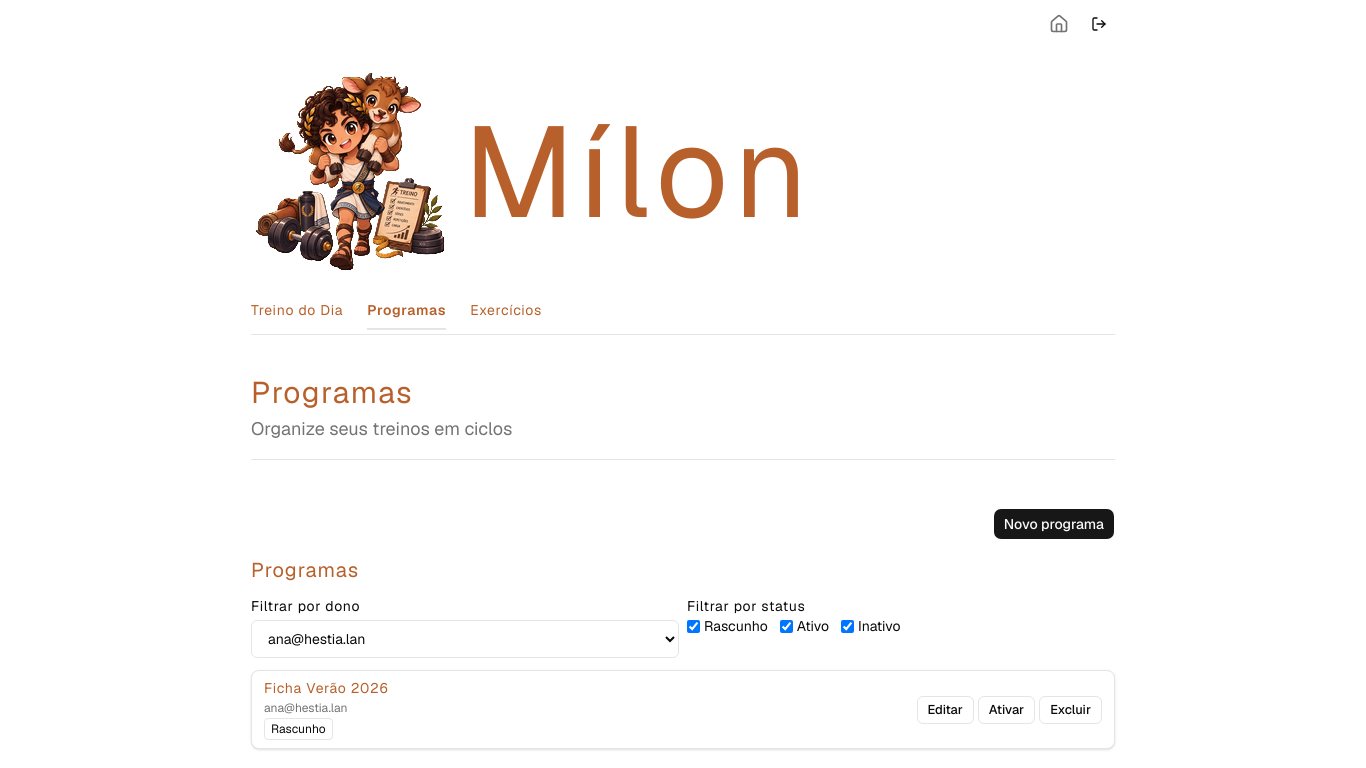
Test: Página /milon/programs — Programas (Mílon #2, TASK-010) › falha do hook ao pedir a exclusão não impede a abertura do modal local
What coordinates should you click on to do the following:
click the button "Excluir"
I would click on:
 (1071, 710)
Its box is [1039,696,1102,724].
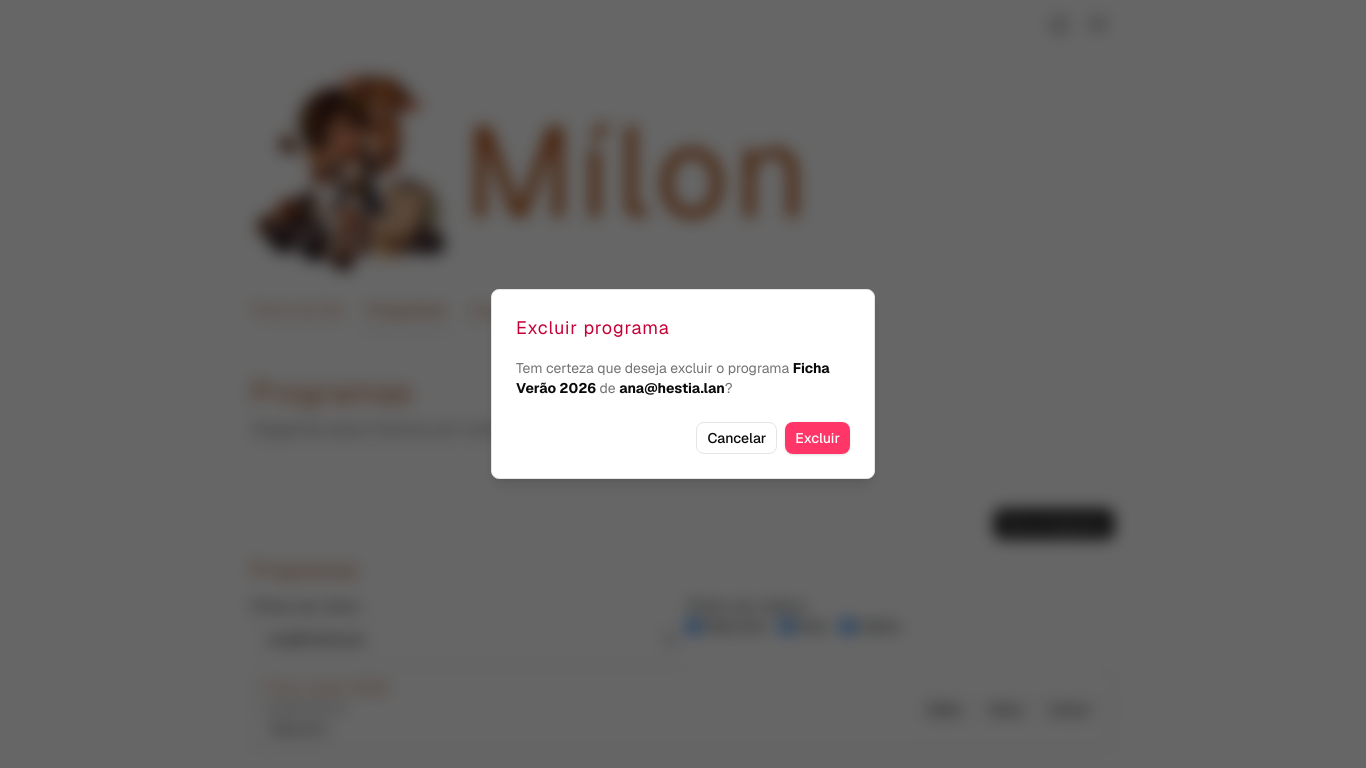
Result: the heading "Excluir programa" is shown at [516,316,670,339]
